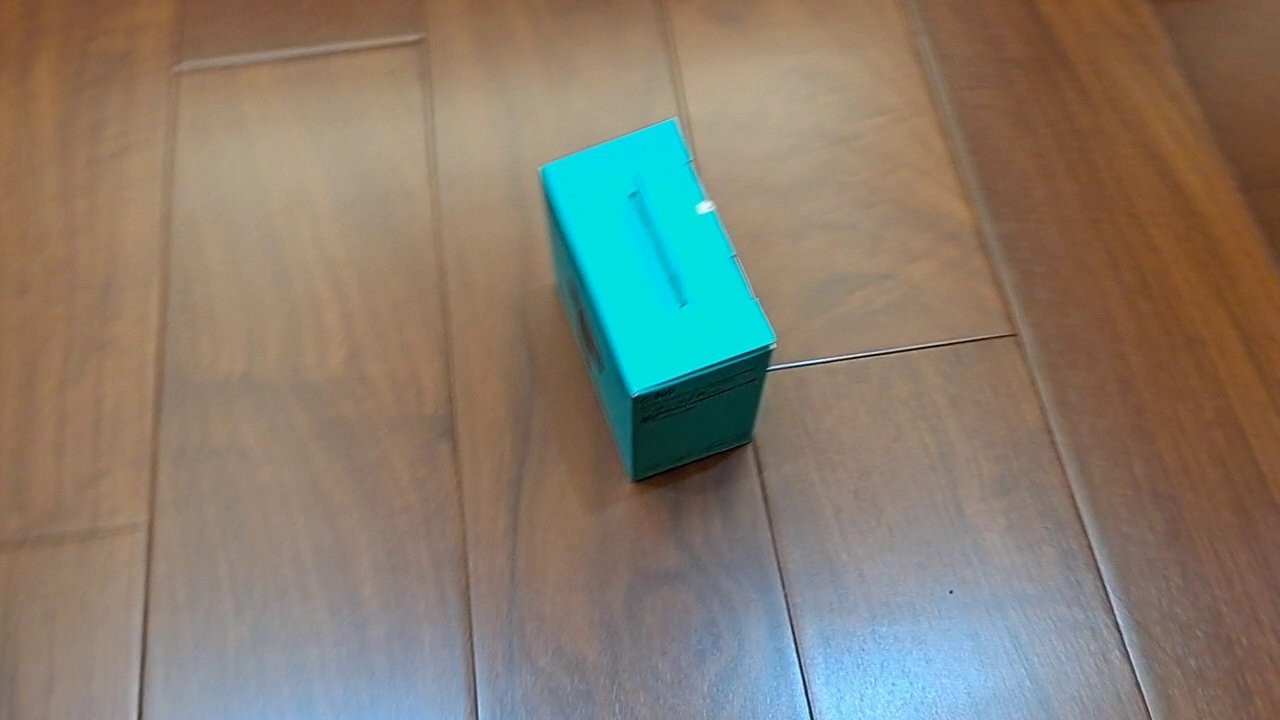webcam: (536, 115, 778, 485)
